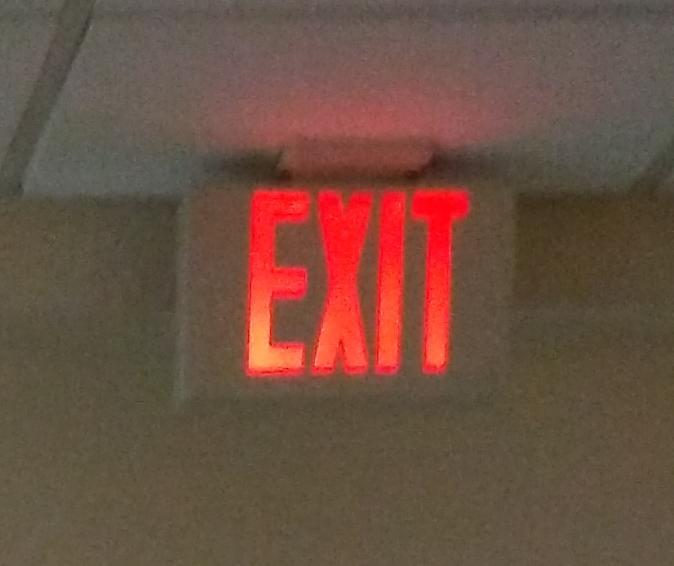sign: (178, 180, 517, 399)
